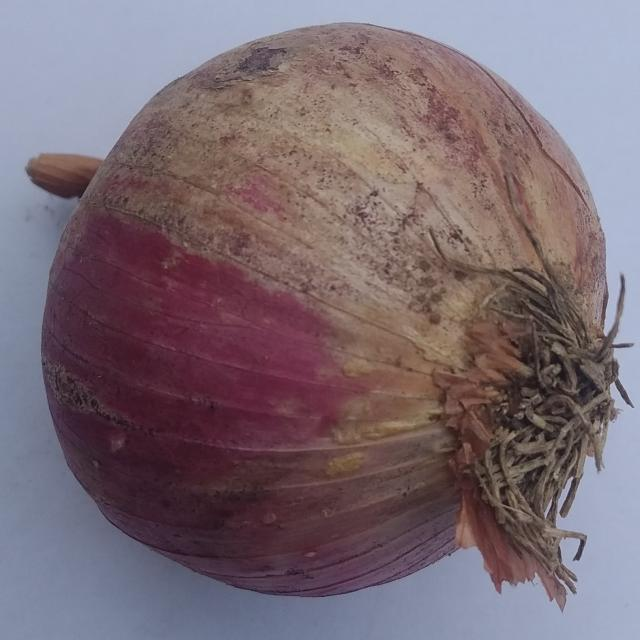onion: (38, 21, 638, 614)
